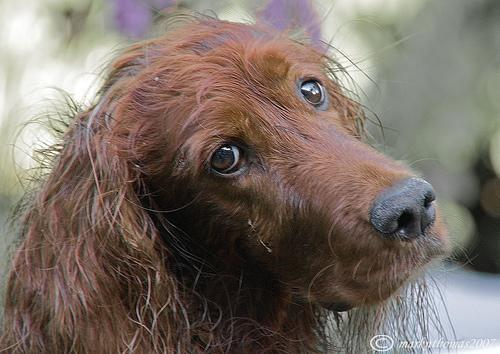Irish_setter: (0, 1, 477, 352)
